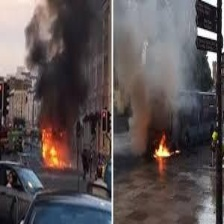fire: (42, 128, 68, 165), (155, 134, 172, 157)
smoke: (117, 4, 194, 112), (29, 4, 84, 121)
